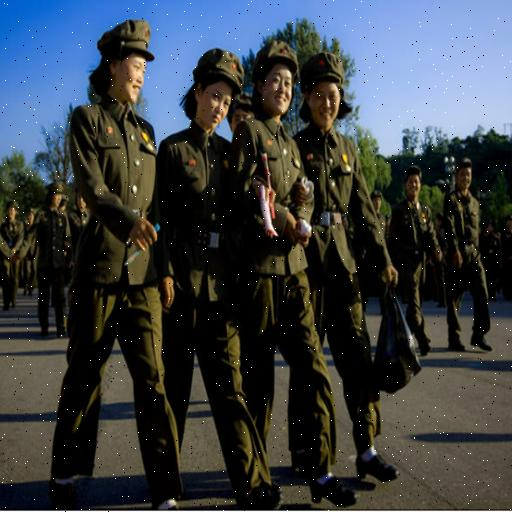north army: (46, 30, 435, 512)
